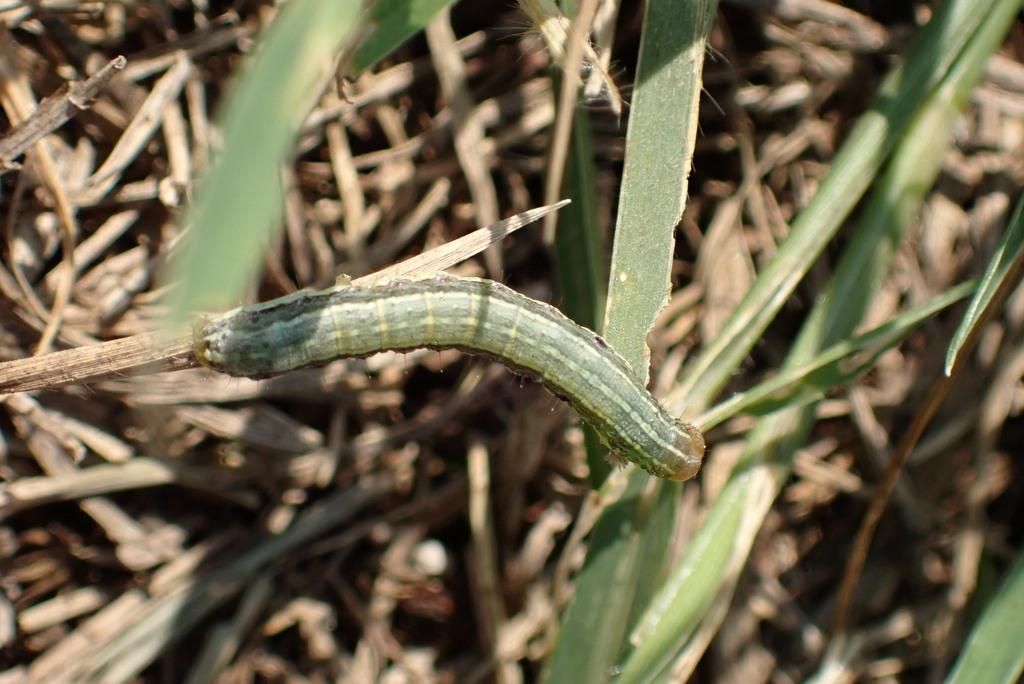caterpillars: (148, 225, 762, 535)
